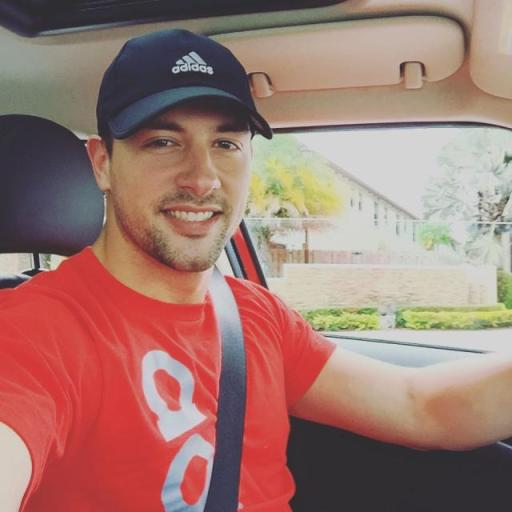Adidas: (168, 48, 216, 76)
